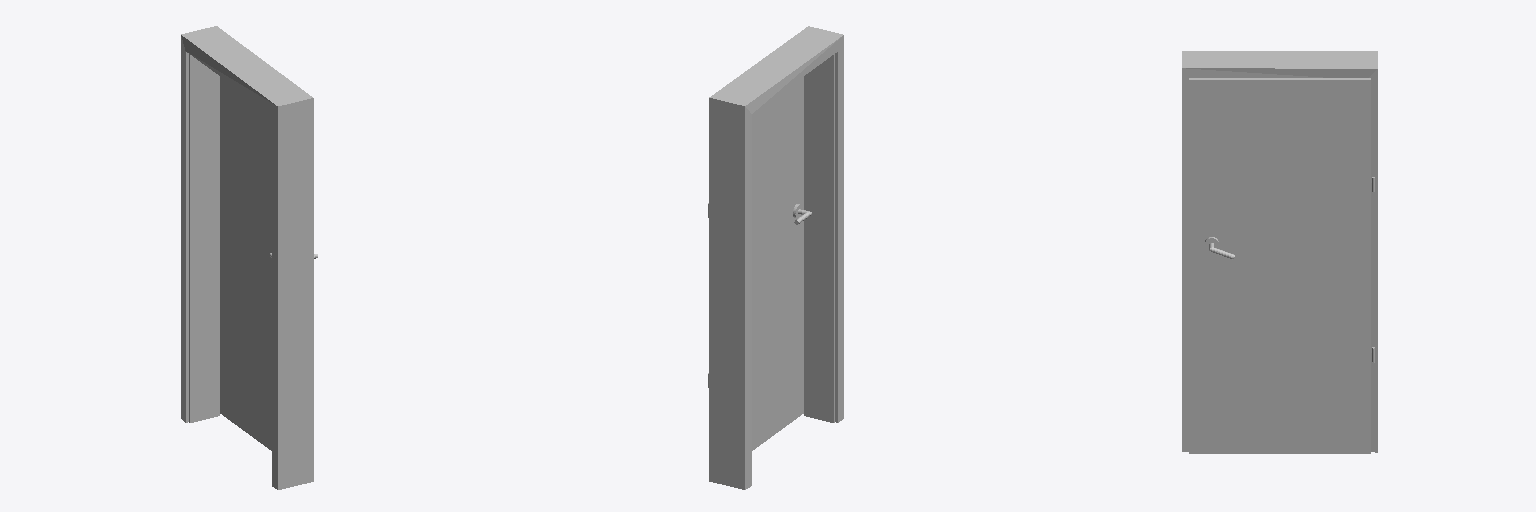
The model's file is door74.obj.
3 views of the same model, side by side, from view 1: azimuth 30°, elevation 25°; view 2: azimuth 150°, elevation 25°; view 3: azimuth 270°, elevation 25° (orthographic).
Parts seen in each view (by area): view 1: Cylinder.005, Cylinder.001; view 2: Cylinder.005, Cylinder.001; view 3: Cylinder.001, Cylinder.005.
Part boxes in pixels (bbox=[...]): Cylinder.005: bbox=[181, 26, 313, 489]; Cylinder.001: bbox=[220, 77, 271, 450]; Cylinder.005: bbox=[708, 26, 843, 489]; Cylinder.001: bbox=[708, 77, 803, 450]; Cylinder.001: bbox=[1189, 78, 1374, 453]; Cylinder.005: bbox=[1182, 51, 1377, 452].
Bounding box in the file's own units: 0.3039 × 2.05 × 0.95.